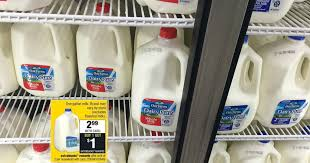milk: (135, 26, 186, 137), (14, 18, 77, 99), (265, 33, 310, 126), (78, 22, 131, 93), (227, 46, 254, 133)
